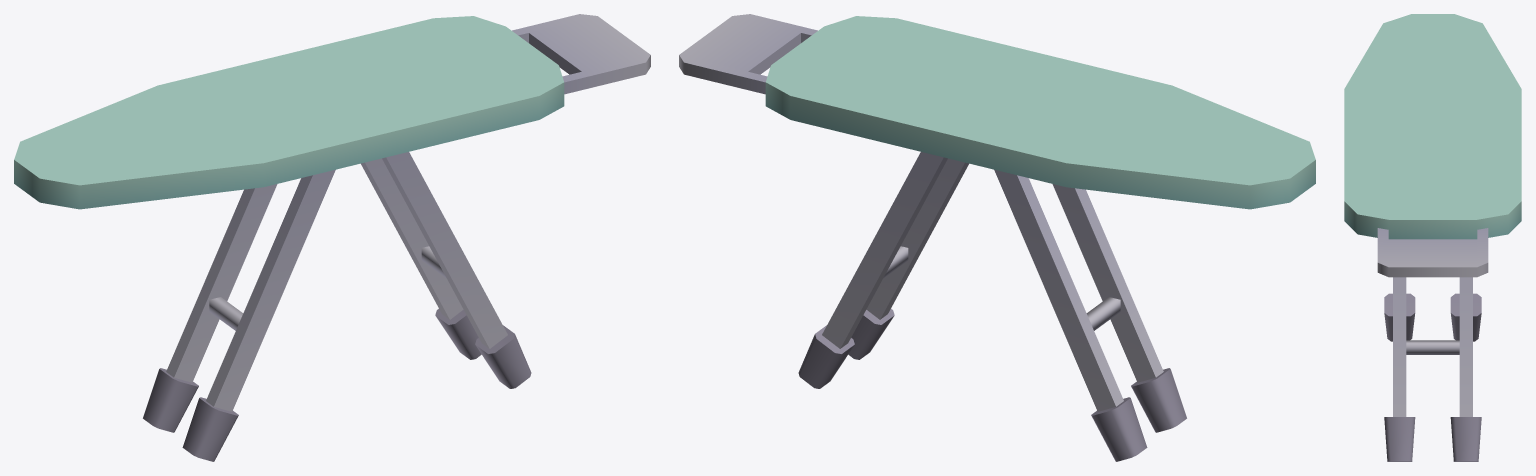
The model's file is ironing-board_0.glb.
3 views of the same model, side by side, from view 1: azimuth 30°, elevation 25°; view 2: azimuth 150°, elevation 25°; view 3: azimuth 270°, elevation 25° (orthographic). The views are drawn at different scales.
Visible parts, largest first — view 1: ironing-board; view 2: ironing-board; view 3: ironing-board.
Boxes of the visible parts, x1,y1,x2,y2 form: ironing-board: (14,14,650,461); ironing-board: (679,14,1315,461); ironing-board: (1344,14,1521,461).
Size of the model in its own units: 1.3 by 0.6516 by 0.4.
